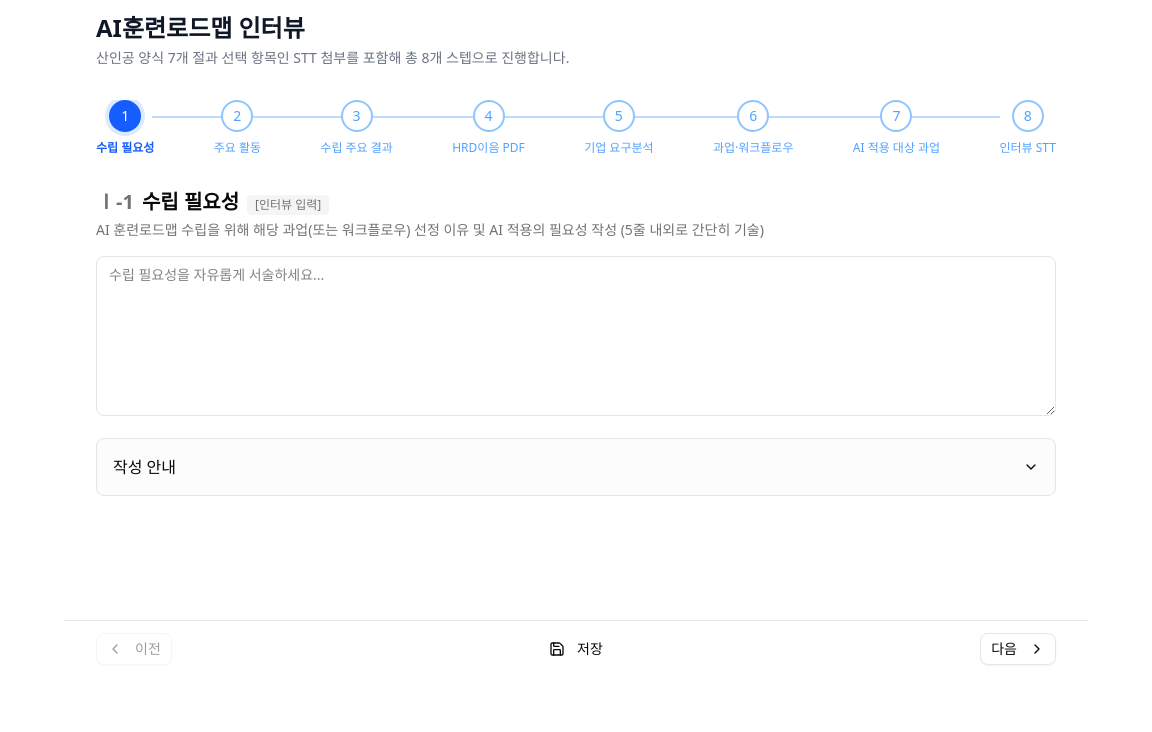
RoadmapInterviewClient › Ⅱ-2 companyReq 스텝 진입 시 실제 StepCompanyRequirements 가 렌더된다
Click the text "기업 요구분석".
click(619, 148)  # box [584,140,654,156]
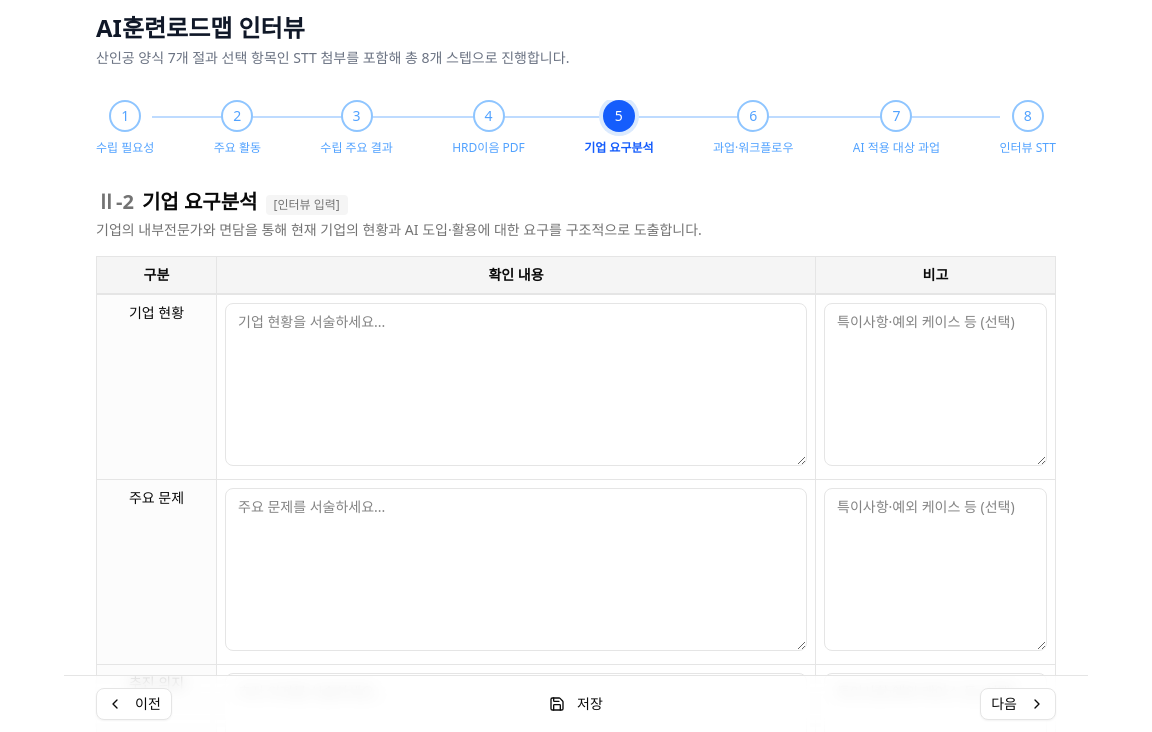
Now the heading "기업 요구분석" is shown, box [142,188,258,216]
Now the column heading "기업 현황" is shown, box [96,294,216,480]
